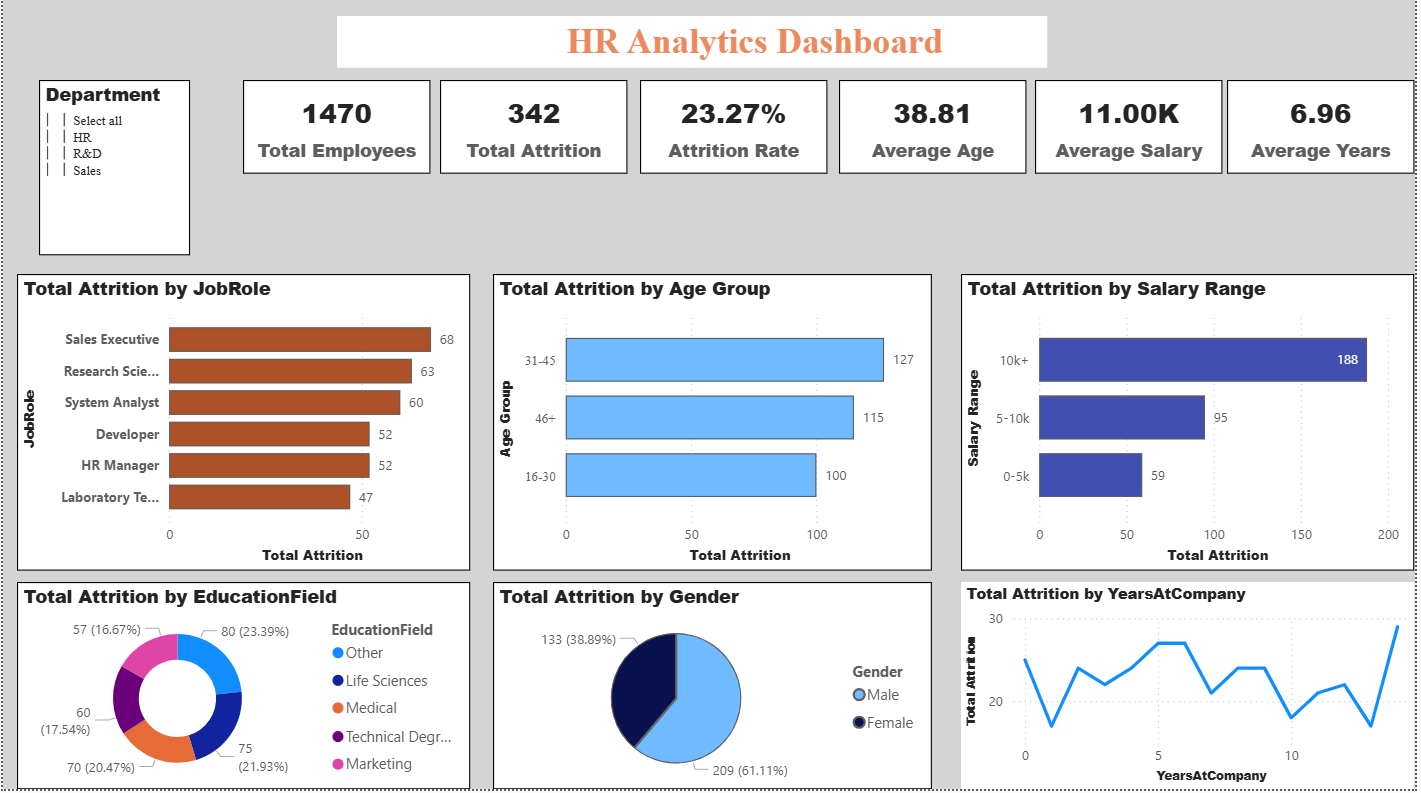

This screenshot's page, from the dashboard's own definition file:
{"tool":"powerbi","page":{"name":"Page 1","canvas":[1280,720],"ordinal":0},"visuals":[{"type":"card","fields":{"Values":["HR_Analytics.Total Employees"]},"box":[217.9,76.8,170.2,84.6],"z":0},{"type":"card","fields":{"Values":["HR_Analytics.Total Attrition"]},"box":[395.9,76.8,170.2,84.6],"z":1000},{"type":"card","fields":{"Values":["HR_Analytics.Attrition Rate"]},"box":[577.8,76.8,170.2,84.6],"z":2000},{"type":"card","fields":{"Values":["HR_Analytics.Average Age"]},"box":[757.7,76.8,170.2,84.6],"z":3000},{"type":"card","fields":{"Values":["HR_Analytics.Average Salary"]},"box":[935.7,76.8,170.2,84.6],"z":4000},{"type":"card","fields":{"Values":["HR_Analytics.Average Years"]},"box":[1109.8,76.8,170.2,84.6],"z":5000},{"type":"listSlicer","fields":{"Values":["HR_Analytics.Department"]},"box":[32.4,76.7,136.7,159.3],"z":6000},{"type":"clusteredBarChart","fields":{"Y":["HR_Analytics.Total Attrition"],"Category":["HR_Analytics.JobRole"]},"box":[12.8,252.7,410.9,269.4],"z":7000},{"type":"clusteredBarChart","fields":{"Category":["HR_Analytics.Age Group"],"Y":["HR_Analytics.Total Attrition"]},"box":[444.4,252.7,398.2,269.4],"z":8000},{"type":"clusteredBarChart","fields":{"Category":["HR_Analytics.Salary Range"],"Y":["HR_Analytics.Total Attrition"]},"box":[869.1,252.7,410.9,269.4],"z":9000},{"type":"donutChart","fields":{"Y":["HR_Analytics.Total Attrition"],"Category":["HR_Analytics.EducationField"]},"box":[13,532,411,188],"z":10000},{"type":"pieChart","fields":{"Y":["HR_Analytics.Total Attrition"],"Category":["HR_Analytics.Gender"]},"box":[444,532,398,188],"z":11000},{"type":"lineChart","fields":{"Category":["HR_Analytics.YearsAtCompany"],"Y":["HR_Analytics.Total Attrition"]},"box":[869.1,531.9,410.9,187.8],"z":12000},{"type":"textbox","box":[302.8,18.7,643.9,47.2],"z":12001}]}

Visuals, with their boxes in screenshot pixels (x1, y1, x2, y2), scaled from the page's 1280x720 canvas onto the 1421x793 screenshot:
card - HR_Analytics.Total Employees: (242,85,431,178)
card - HR_Analytics.Total Attrition: (440,85,628,178)
card - HR_Analytics.Attrition Rate: (641,85,830,178)
card - HR_Analytics.Average Age: (841,85,1030,178)
card - HR_Analytics.Average Salary: (1039,85,1228,178)
card - HR_Analytics.Average Years: (1232,85,1420,178)
listSlicer - HR_Analytics.Department: (36,84,188,260)
clusteredBarChart - HR_Analytics.Total Attrition x HR_Analytics.JobRole: (14,278,470,575)
clusteredBarChart - HR_Analytics.Age Group x HR_Analytics.Total Attrition: (493,278,935,575)
clusteredBarChart - HR_Analytics.Salary Range x HR_Analytics.Total Attrition: (965,278,1420,575)
donutChart - HR_Analytics.Total Attrition x HR_Analytics.EducationField: (14,586,471,792)
pieChart - HR_Analytics.Total Attrition x HR_Analytics.Gender: (493,586,935,792)
lineChart - HR_Analytics.YearsAtCompany x HR_Analytics.Total Attrition: (965,586,1420,792)
textbox: (336,21,1051,73)
